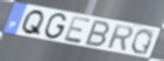B: (83, 19, 112, 48)
E: (62, 15, 93, 45)
G: (42, 13, 68, 41)
Q: (19, 9, 46, 38), (129, 28, 155, 57)
R: (106, 23, 134, 52)
